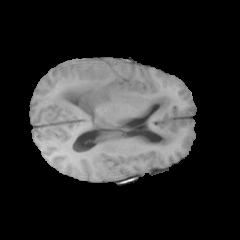glioma: (53, 78, 179, 149)
